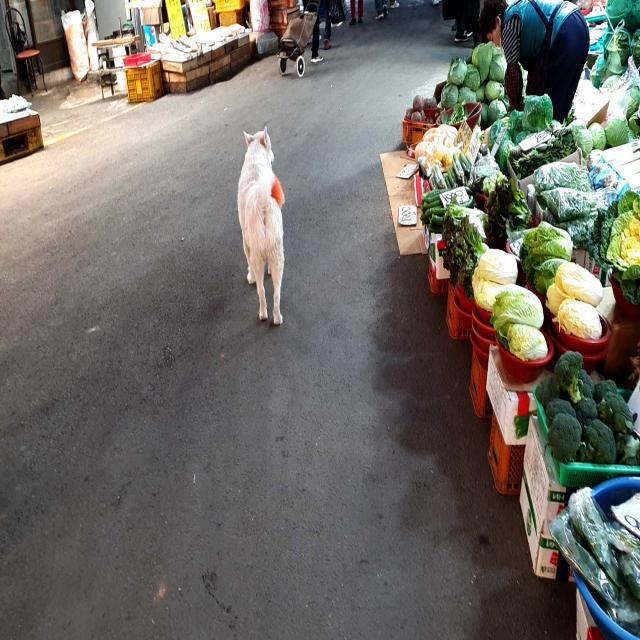Dog: (237, 124, 285, 326)
